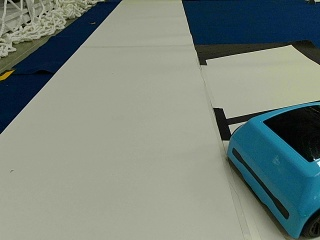car: (224, 100, 320, 237)
